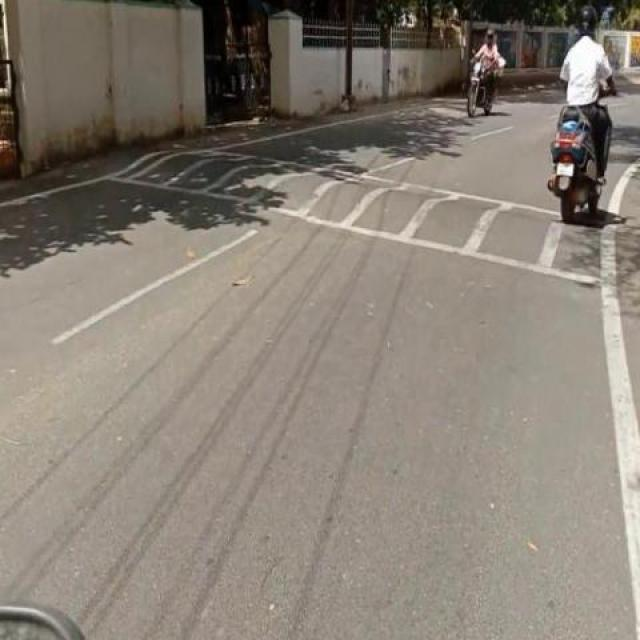Speed Bump: (113, 148, 546, 268), (568, 218, 639, 300)
